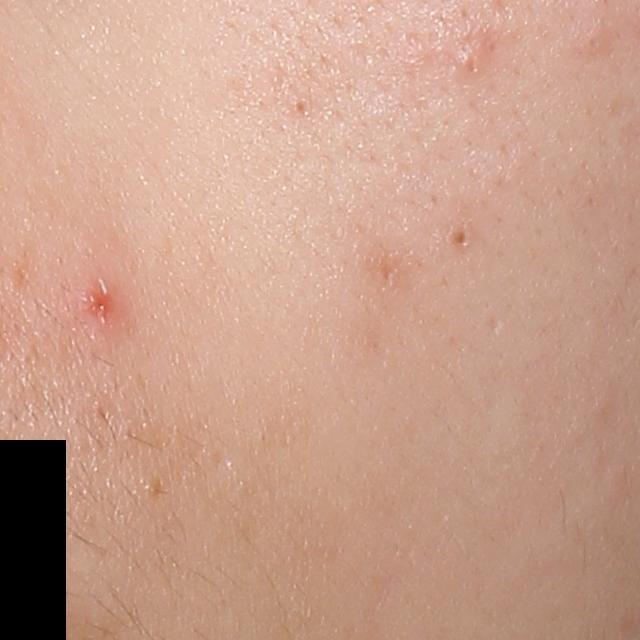comedo: (572, 26, 610, 56), (443, 222, 471, 251), (289, 97, 308, 115)
papule: (77, 282, 114, 325)
